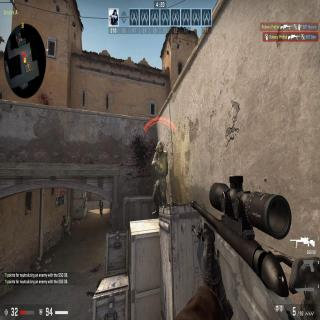CT-Body: (151, 137, 169, 216), (59, 213, 73, 246), (98, 198, 104, 216)
CT-Head: (156, 140, 164, 154), (62, 215, 66, 219), (99, 198, 102, 202)
